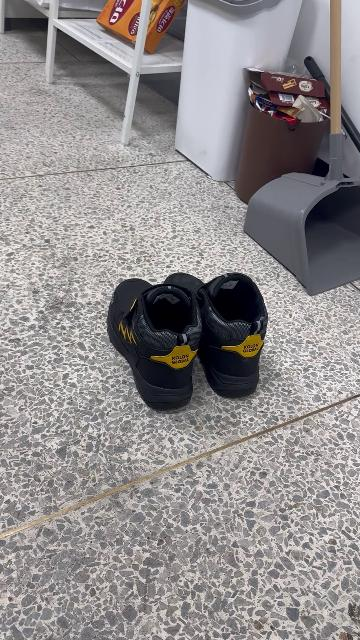shoe_worn: (164, 267, 267, 400), (108, 280, 200, 408)
